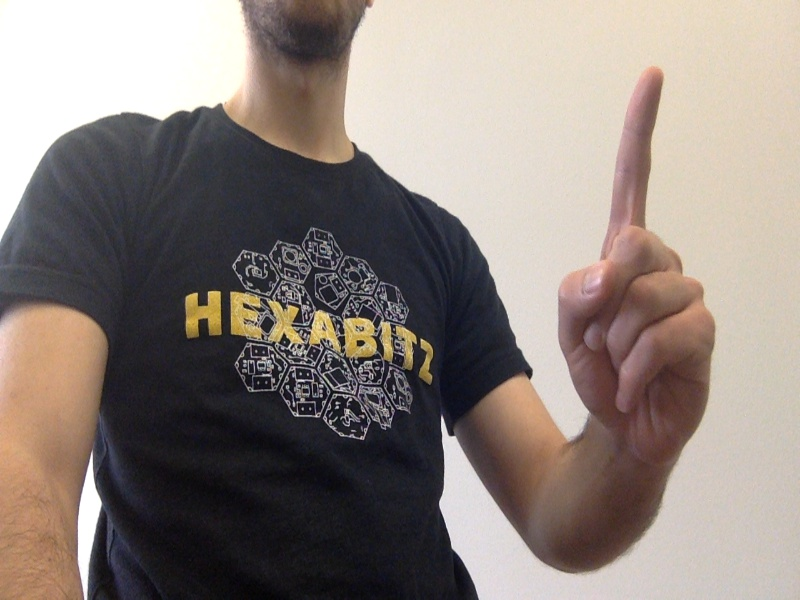1-hand: (557, 67, 716, 456)
